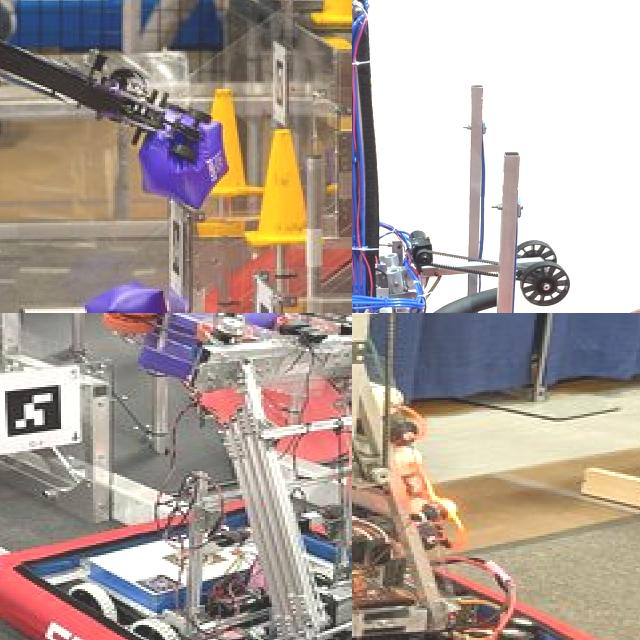FRC-Robots: (0, 313, 352, 640), (352, 313, 640, 640), (352, 0, 640, 313), (0, 0, 235, 313)
